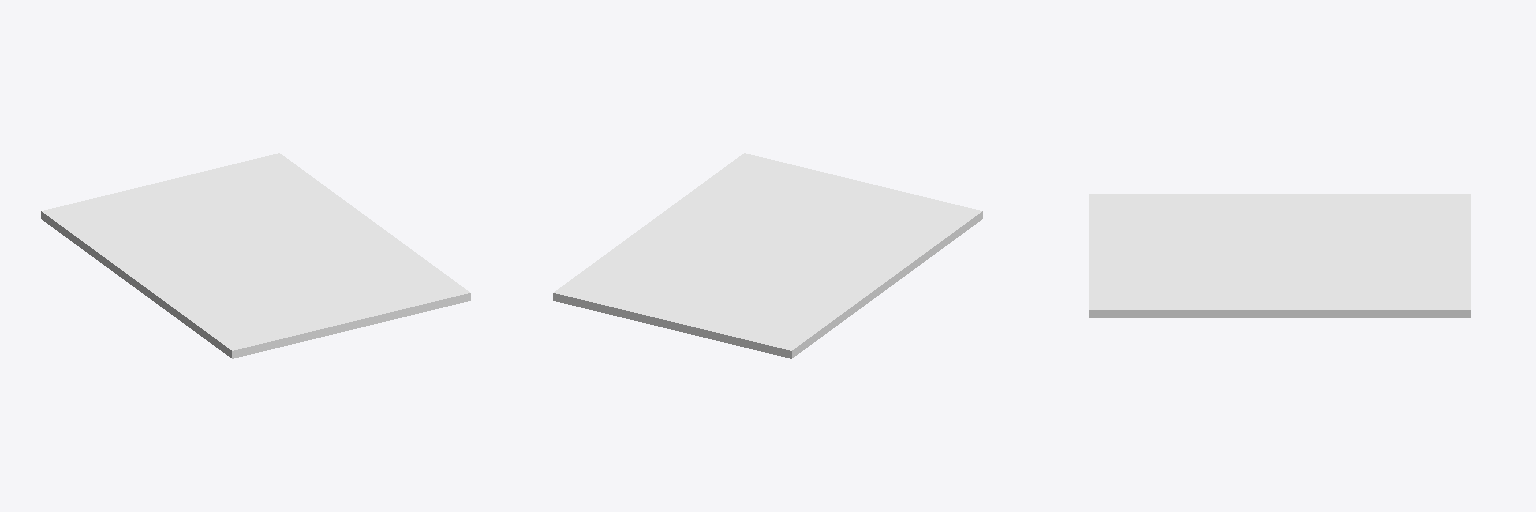
The model's file is servis-1.obj.
3 renders of one model, left to right at view 1: azimuth 30°, elevation 25°; view 2: azimuth 150°, elevation 25°; view 3: azimuth 270°, elevation 25°, orthographic.
Parts seen in each view (by area): view 1: object 1; view 2: object 1; view 3: object 1.
Boxes of the visible parts, box(x1,y1,x2,y2) form: object 1: box(41, 153, 470, 358); object 1: box(553, 153, 982, 358); object 1: box(1089, 194, 1470, 317).
Bounding box in the file's own units: 3.1 × 0.1 × 4.3.